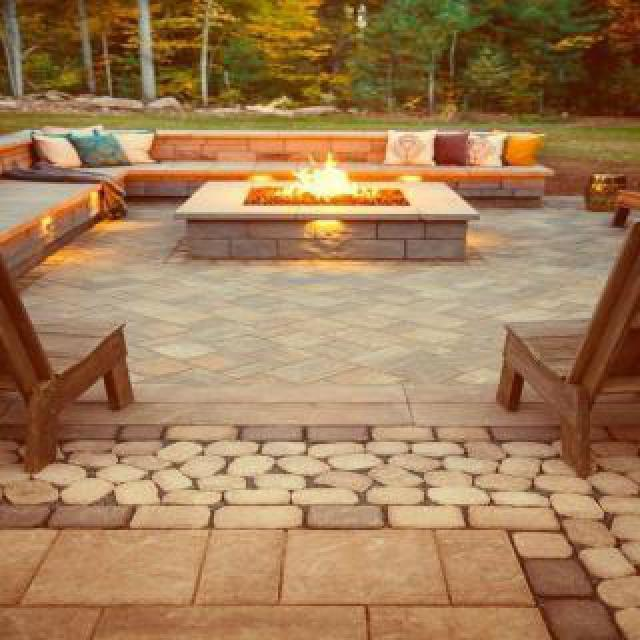Fire: (296, 136, 366, 210)
